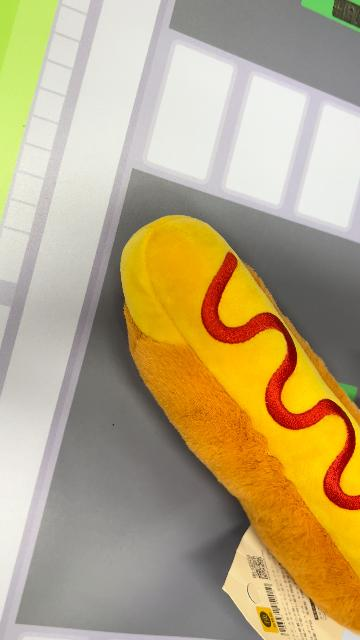hotdog: (120, 212, 358, 636)
